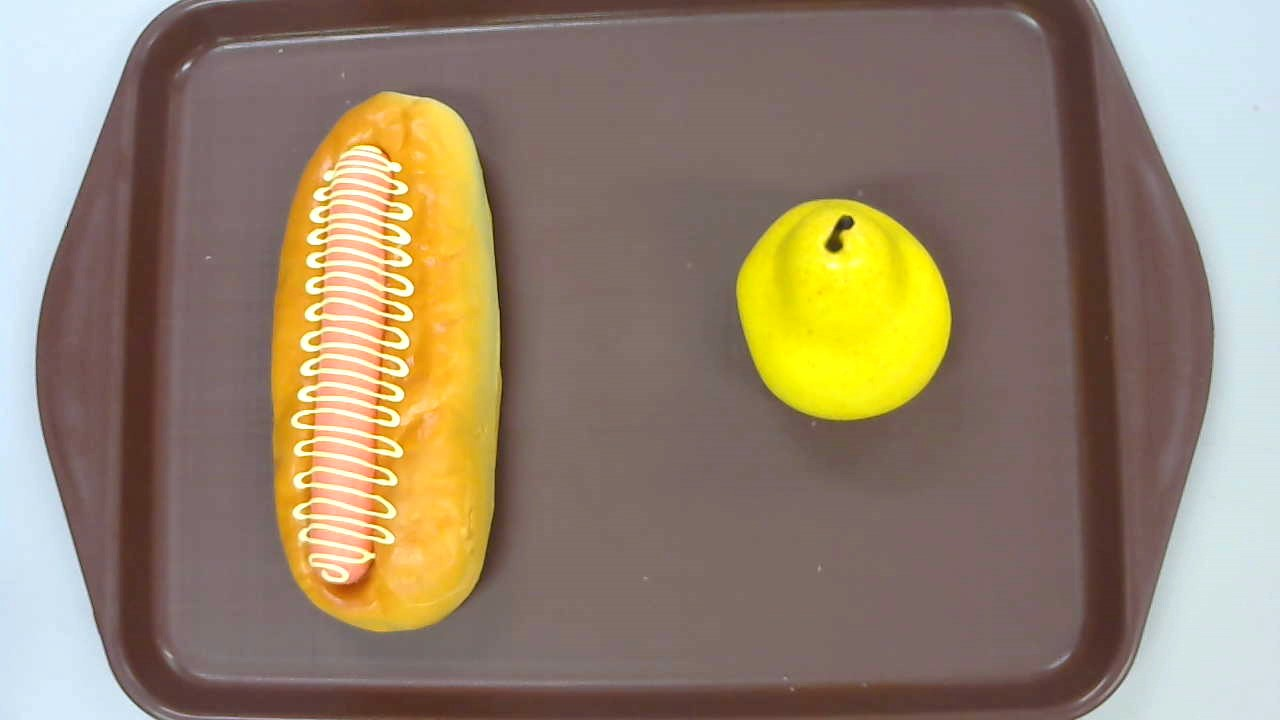hot dog: (266, 90, 501, 631)
yellow pear: (735, 197, 952, 420)
